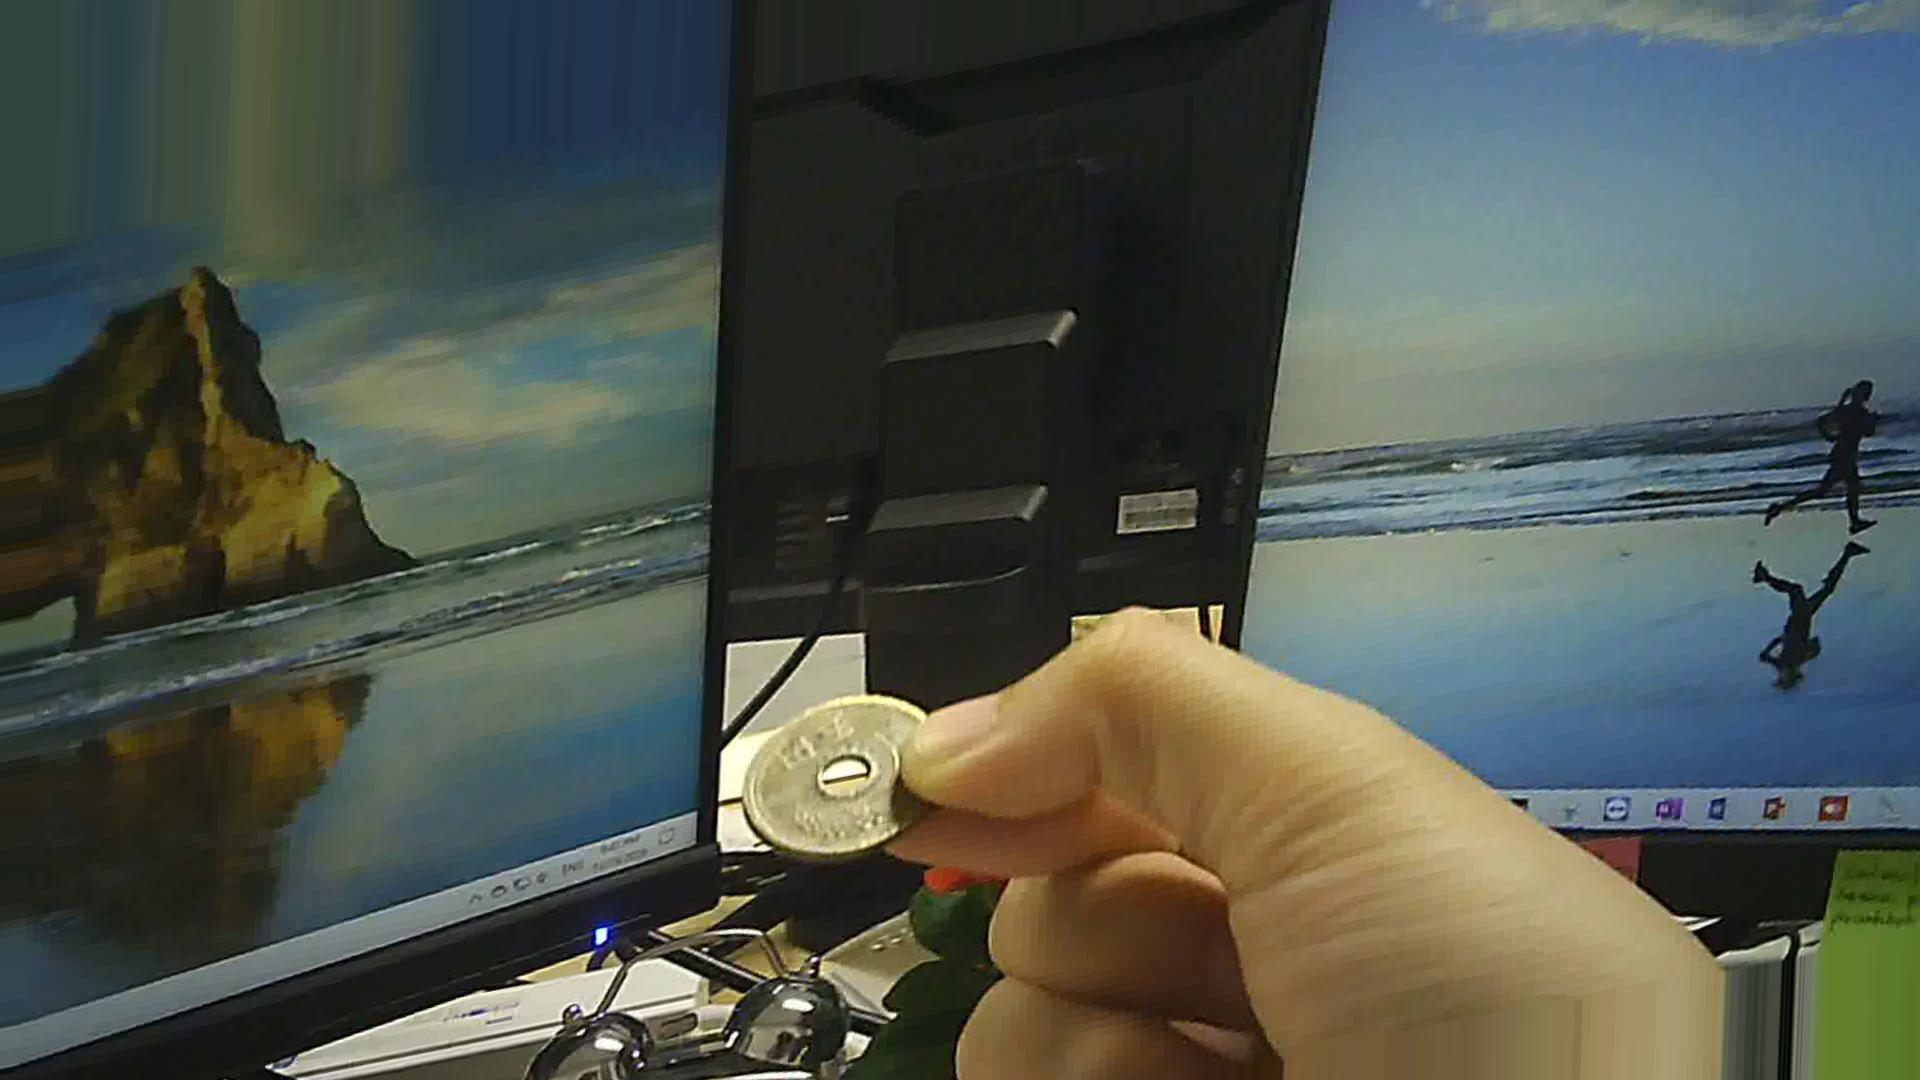5 Yen: (737, 692, 964, 874)
